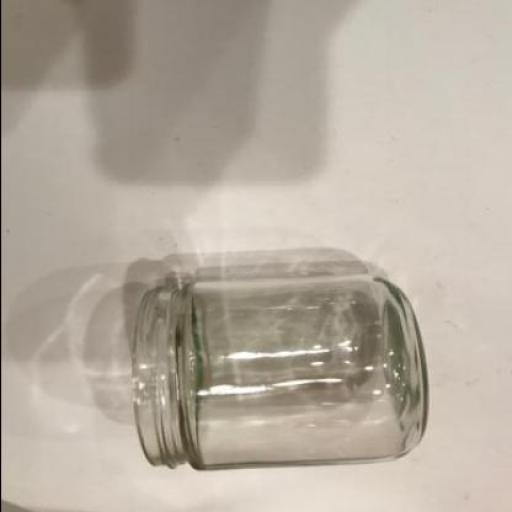glass: (130, 278, 428, 472)
